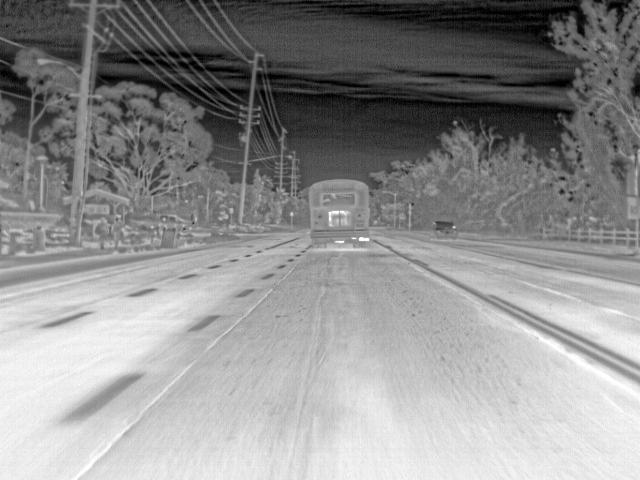car: (432, 220, 456, 240)
person: (111, 214, 123, 246), (99, 218, 108, 248)
